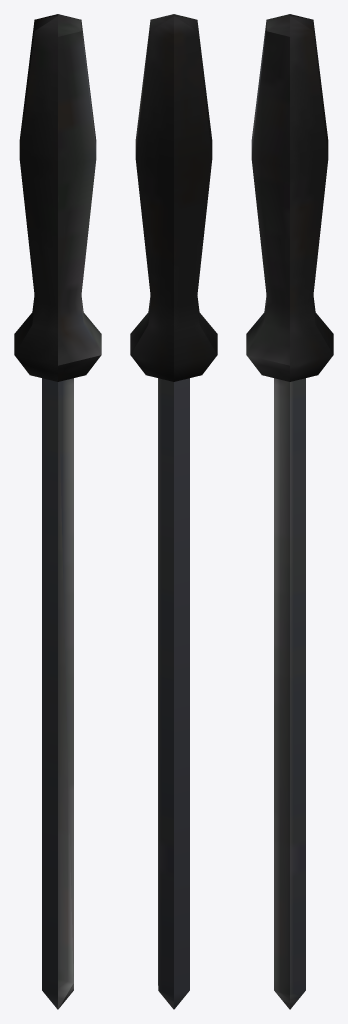
The model's file is cuchillo5.fbx.
The picture shows the model from 3 angles, left to right: view 1: azimuth 90°, elevation 25°; view 2: azimuth 210°, elevation 25°; view 3: azimuth 270°, elevation 25°; orthographic projection.
Parts seen in each view (by area): view 1: s4studio_mesh_1; view 2: s4studio_mesh_1; view 3: s4studio_mesh_1.
Boxes of the visible parts, box(x1,y1,x2,y2) form: s4studio_mesh_1: box(14, 14, 101, 1009); s4studio_mesh_1: box(130, 14, 217, 1009); s4studio_mesh_1: box(246, 14, 333, 1009).
Size of the model in its own units: 4.91 by 53.49 by 4.25.
1 material, 1 textured.
